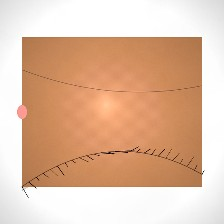hemorrhage_spot: (109, 99, 167, 145)
